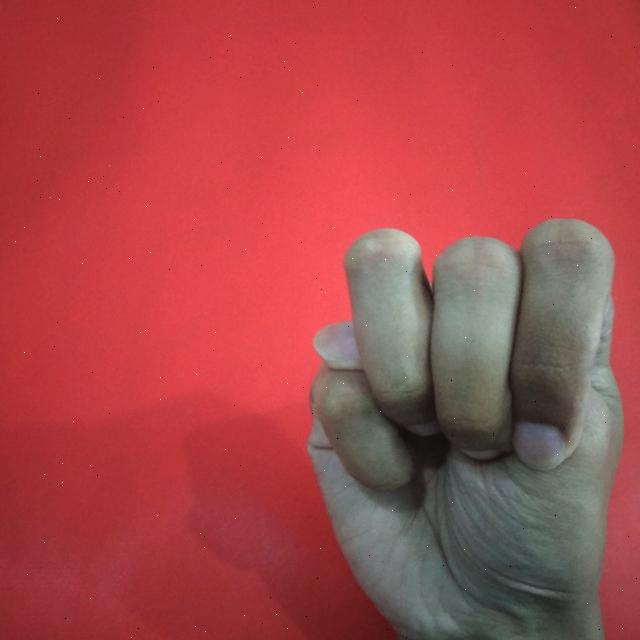M: (297, 210, 640, 640)
